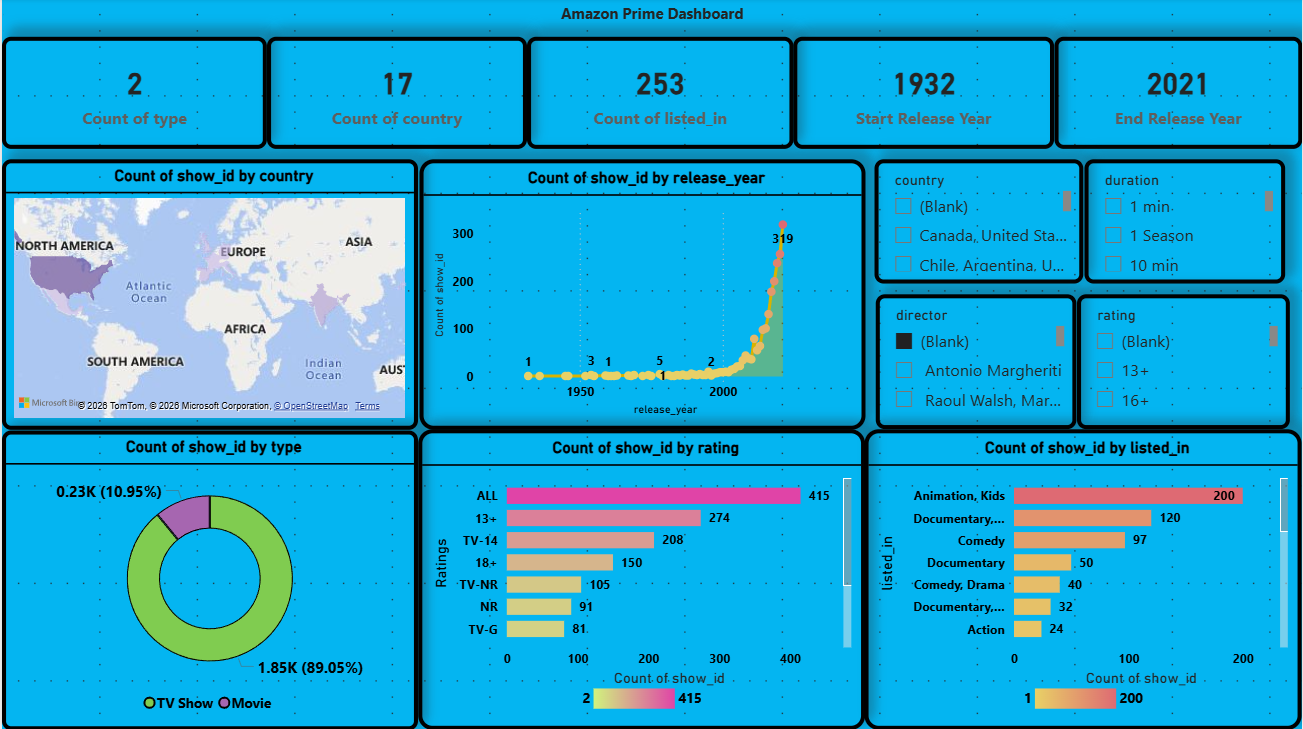

What the dashboard file says about the page in this screenshot:
{"tool":"powerbi","page":{"name":"Page 1","canvas":[1280,720],"ordinal":0},"visuals":[{"type":"donutChart","fields":{"Category":["amazon_prime_titles.type"],"Y":["amazon_prime_titles.show_id"]},"box":[0,425.4,409.3,294.8],"z":0},{"type":"barChart","fields":{"Category":["amazon_prime_titles.rating"],"Y":["amazon_prime_titles.show_id"]},"box":[409.3,424.1,440.2,296.2],"z":1000},{"type":"barChart","fields":{"Category":["amazon_prime_titles.listed_in"],"Y":["amazon_prime_titles.show_id"]},"box":[849.5,424.1,430.8,296.2],"z":2000},{"type":"filledMap","fields":{"Category":["amazon_prime_titles.country"]},"box":[0,158.9,409.3,266.6],"z":3000},{"type":"areaChart","fields":{"Y":["amazon_prime_titles.show_id"],"Category":["amazon_prime_titles.release_year"]},"box":[410.6,158.9,438.9,266.6],"z":4000},{"type":"textbox","box":[0,0,1280.3,37.7],"z":5000},{"type":"card","fields":{"Values":["amazon_prime_titles.type"]},"box":[0,37.7,261.2,110.4],"z":6000},{"type":"card","fields":{"Values":["amazon_prime_titles.country"]},"box":[261.2,37.7,255.8,110.4],"z":7000},{"type":"card","fields":{"Values":["amazon_prime_titles.listed_in"]},"box":[517,37.7,262.5,110.4],"z":8000},{"type":"card","fields":{"Values":["amazon_prime_titles.release_year"]},"box":[779.5,37.7,257.1,110.4],"z":9000},{"type":"card","fields":{"Values":["amazon_prime_titles.release_year"]},"box":[1036.6,37.7,243.7,110.4],"z":10000},{"type":"slicer","fields":{"Values":["amazon_prime_titles.country"]},"box":[859.5,158.6,205.8,122.3],"z":11000},{"type":"slicer","fields":{"Values":["amazon_prime_titles.director"]},"box":[860.7,291.7,197.3,133.2],"z":11001},{"type":"slicer","fields":{"Values":["amazon_prime_titles.duration"]},"box":[1065.2,158.6,197.3,122.3],"z":11002},{"type":"slicer","fields":{"Values":["amazon_prime_titles.rating"]},"box":[1058,291.7,209.4,133.2],"z":11003}]}

Visuals, with their boxes in screenshot pixels (x1, y1, x2, y2), scaled from the page's 1280x720 canvas onto the 1303x729 screenshot:
donutChart - amazon_prime_titles.type x amazon_prime_titles.show_id: (x1=0, y1=431, x2=417, y2=728)
barChart - amazon_prime_titles.rating x amazon_prime_titles.show_id: (x1=417, y1=429, x2=865, y2=728)
barChart - amazon_prime_titles.listed_in x amazon_prime_titles.show_id: (x1=865, y1=429, x2=1302, y2=728)
filledMap - amazon_prime_titles.country: (x1=0, y1=161, x2=417, y2=431)
areaChart - amazon_prime_titles.show_id x amazon_prime_titles.release_year: (x1=418, y1=161, x2=865, y2=431)
textbox: (x1=0, y1=0, x2=1302, y2=38)
card - amazon_prime_titles.type: (x1=0, y1=38, x2=266, y2=150)
card - amazon_prime_titles.country: (x1=266, y1=38, x2=526, y2=150)
card - amazon_prime_titles.listed_in: (x1=526, y1=38, x2=794, y2=150)
card - amazon_prime_titles.release_year: (x1=794, y1=38, x2=1055, y2=150)
card - amazon_prime_titles.release_year: (x1=1055, y1=38, x2=1302, y2=150)
slicer - amazon_prime_titles.country: (x1=875, y1=161, x2=1084, y2=284)
slicer - amazon_prime_titles.director: (x1=876, y1=295, x2=1077, y2=430)
slicer - amazon_prime_titles.duration: (x1=1084, y1=161, x2=1285, y2=284)
slicer - amazon_prime_titles.rating: (x1=1077, y1=295, x2=1290, y2=430)
